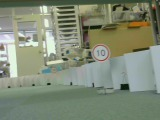speed_10: (91, 44, 111, 63)
